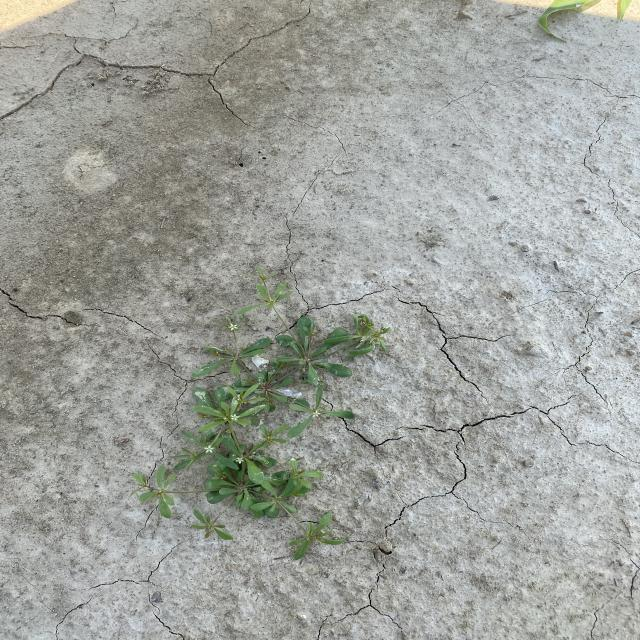Carpetweed: (124, 268, 394, 562)
